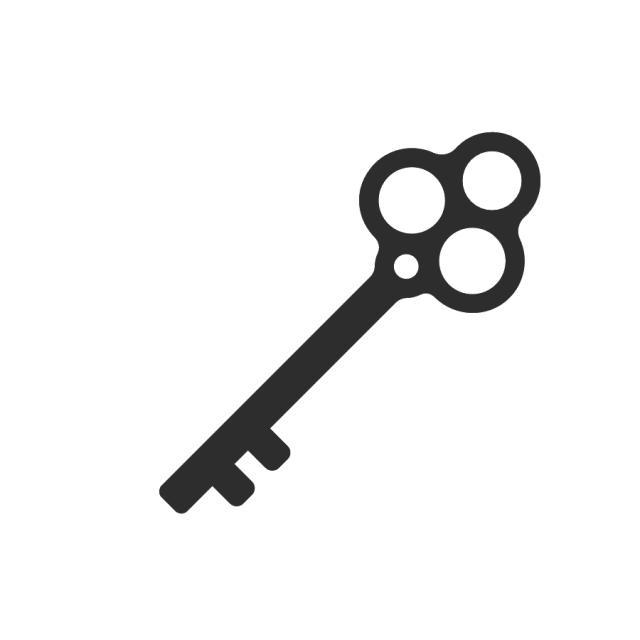key: (154, 130, 546, 523)
